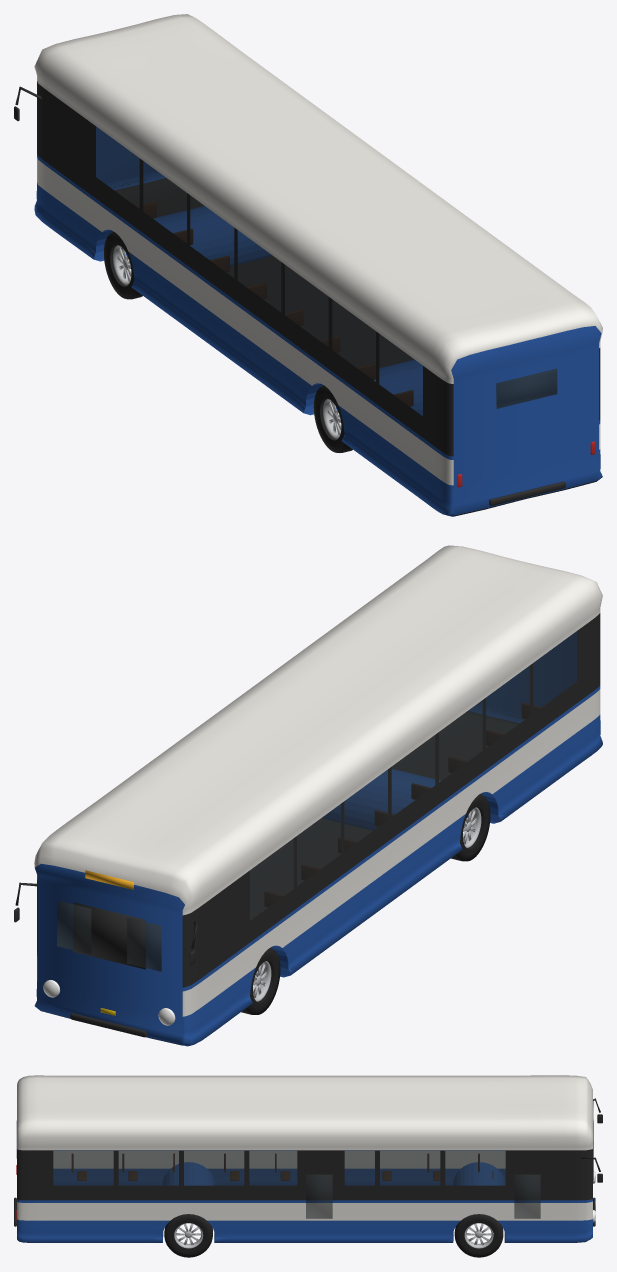
File: bus_0.glb
The picture shows the model from 3 angles, top to bottom: view 1: azimuth 30°, elevation 25°; view 2: azimuth 150°, elevation 25°; view 3: azimuth 270°, elevation 25°; orthographic projection. The views are drawn at different scales.
Visible parts, largest first — view 1: body, wheel_0, wheel_2; view 2: body, wheel_0, wheel_2; view 3: body, wheel_1, wheel_3.
Part boxes in pixels (x1,y1,x2,y2): body: (14, 14, 602, 516); wheel_0: (103, 232, 142, 299); wheel_2: (313, 385, 352, 452); body: (14, 545, 602, 1046); wheel_0: (241, 947, 280, 1014); wheel_2: (451, 794, 490, 861); body: (14, 1075, 602, 1242); wheel_1: (454, 1214, 503, 1257); wheel_3: (164, 1214, 212, 1257).
Size of the model in its own units: 2.94 by 3.1 by 12.17.
